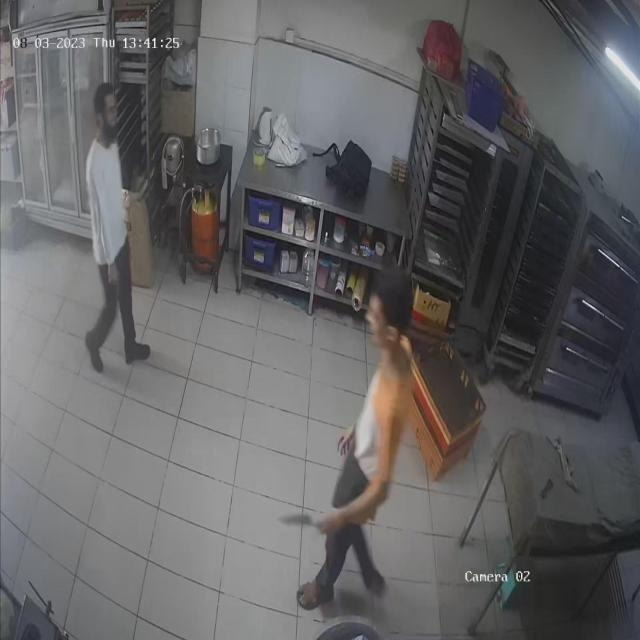Knife: (270, 501, 334, 545)
